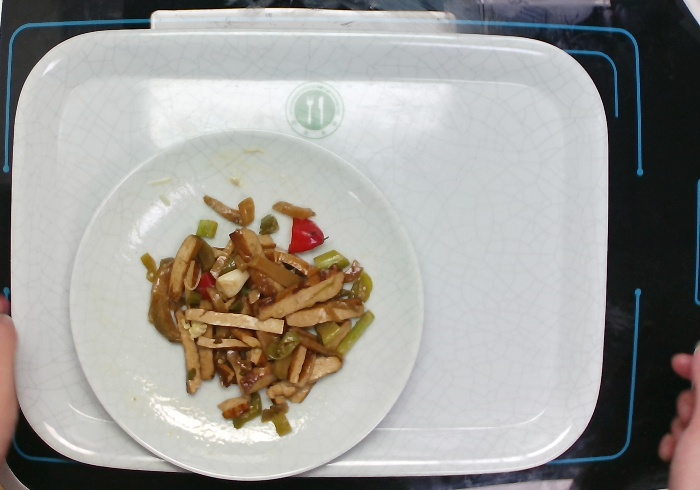JYsf-Da_Yuan_Pan: (63, 123, 430, 484)
